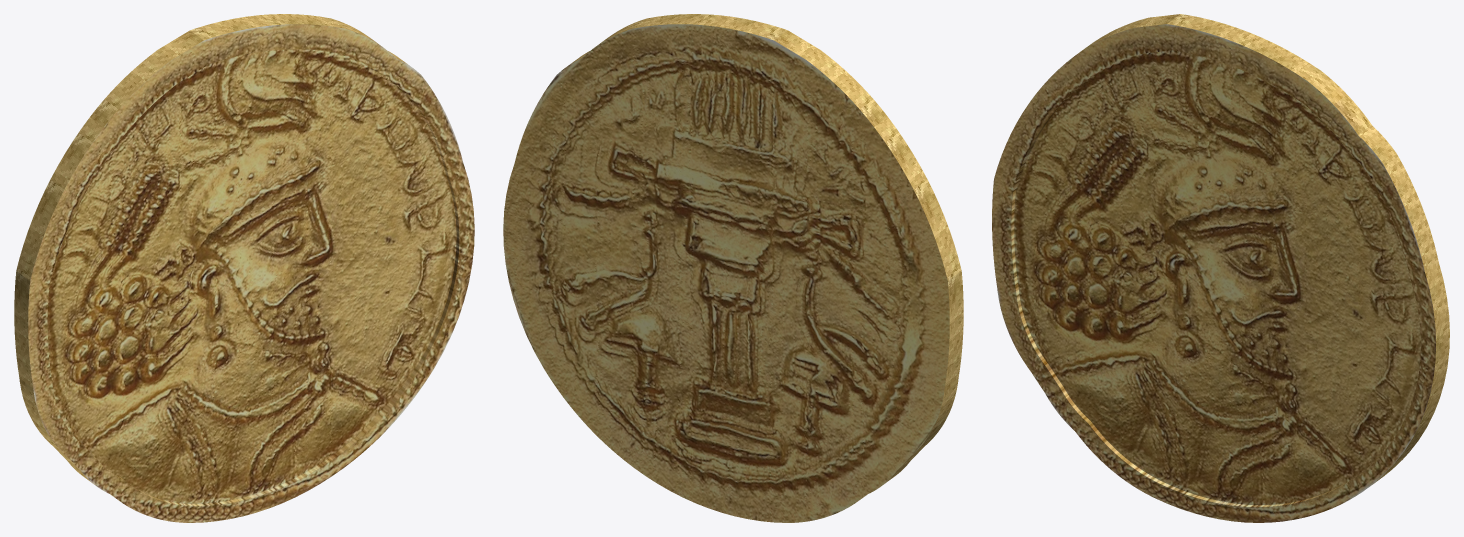
The picture shows the model from 3 angles, left to right: view 1: azimuth 30°, elevation 25°; view 2: azimuth 150°, elevation 25°; view 3: azimuth 330°, elevation 25°; orthographic projection.
Visible parts, largest first — view 1: Mesh1_M_2069447l_0, Mesh1_M_2069447l_1_0; view 2: Mesh1_M_2069447l_0, Mesh1_M_2069447l_1_0; view 3: Mesh1_M_2069447l_0, Mesh1_M_2069447l_1_0.
Part boxes in pixels (x1,y1,x2,y2): Mesh1_M_2069447l_0: (28, 24, 474, 522); Mesh1_M_2069447l_1_0: (14, 14, 407, 496); Mesh1_M_2069447l_0: (503, 24, 949, 522); Mesh1_M_2069447l_1_0: (570, 14, 963, 496); Mesh1_M_2069447l_0: (992, 24, 1435, 522); Mesh1_M_2069447l_1_0: (1080, 14, 1449, 484).
Bounding box in the file's own units: 0.6396 × 0.6663 × 0.0345.
Materials: 2 (2 with a texture image).
